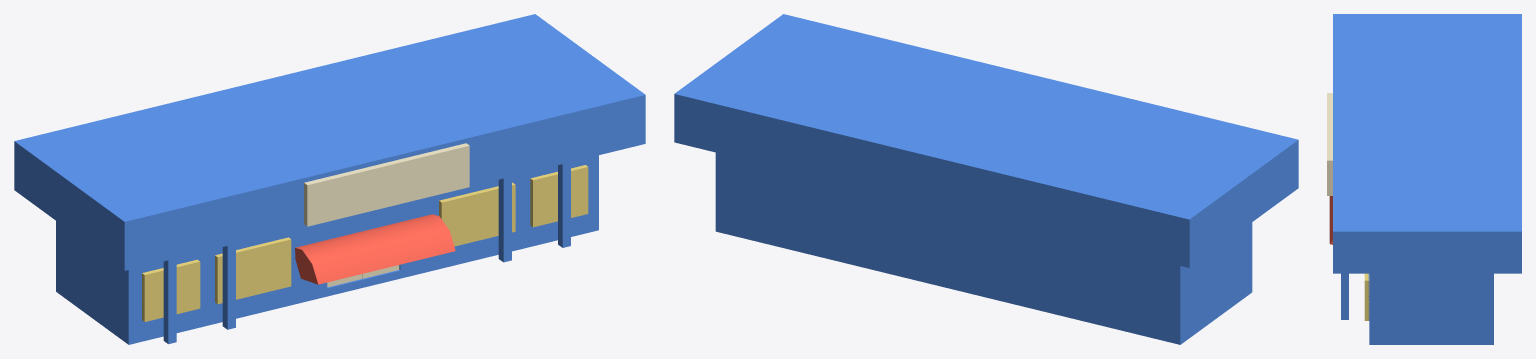
File: super (1).fbx
The picture shows the model from 3 angles, left to right: view 1: azimuth 30°, elevation 25°; view 2: azimuth 150°, elevation 25°; view 3: azimuth 270°, elevation 25°; orthographic projection. The views are drawn at different scales.
Parts seen in each view (by area): view 1: super, window, sign, roof; view 2: super; view 3: super, sign, window, roof.
Boxes of the visible parts, x1,y1,x2,y2 form: super: (14, 14, 645, 344); window: (142, 165, 588, 321); sign: (304, 143, 469, 226); roof: (295, 214, 455, 284); super: (674, 14, 1298, 344); super: (1333, 14, 1521, 344); sign: (1327, 93, 1332, 195); window: (1364, 273, 1369, 320); roof: (1329, 196, 1332, 244).
Size of the model in its own units: 7581 by 2014 by 2869.
Materials: 1 (1 with a texture image).
